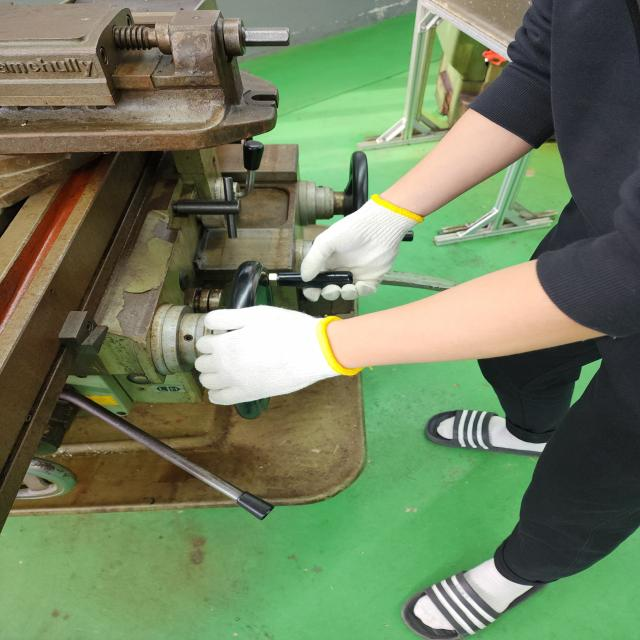Boots: (186, 306, 343, 409), (299, 178, 427, 301)
